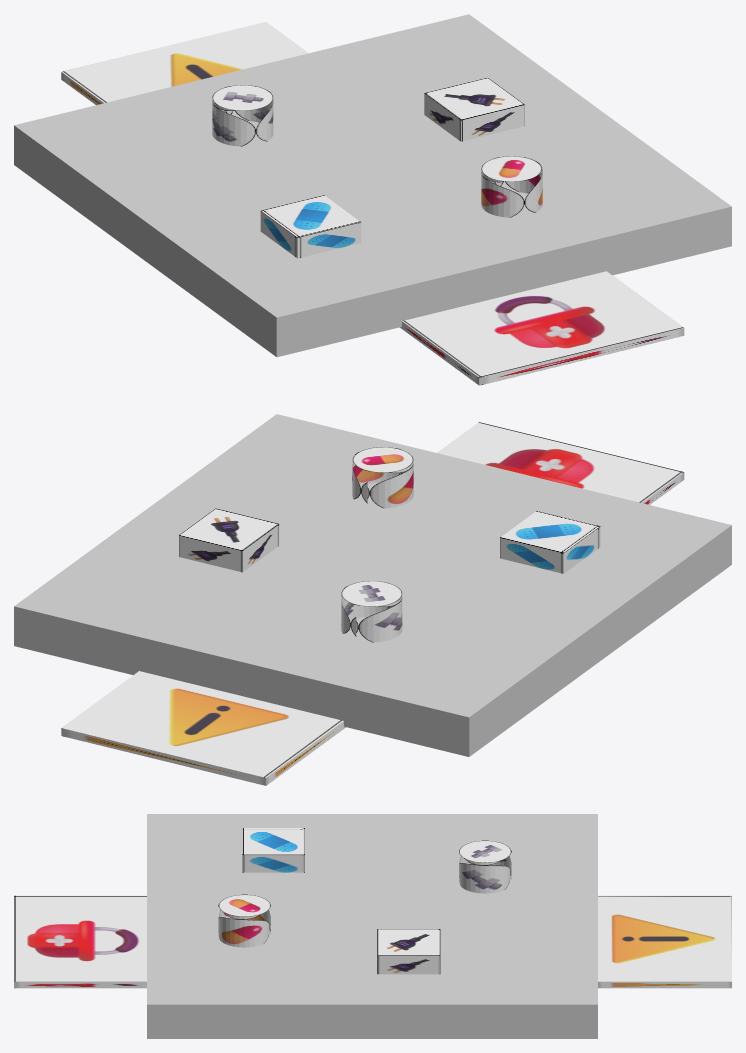
The model's file is octagon_table.dae.
3 views of the same model, one above another, from view 1: azimuth 30°, elevation 25°; view 2: azimuth 150°, elevation 25°; view 3: azimuth 270°, elevation 25° (orthographic). The views are drawn at different scales.
Visible parts, largest first — view 1: Cube, Cube.002, Cube.001, Cube.003, Cube.004, Cylinder, Cylinder.001; view 2: Cube, Cube.001, Cube.002, Cube.003, Cube.004, Cylinder, Cylinder.001; view 3: Cube, Cube.001, Cube.002, Cube.003, Cube.004, Cylinder, Cylinder.001.
Boxes of the visible parts, x1,y1,x2,y2 form: Cube: [14, 14, 731, 357]; Cube.002: [400, 271, 684, 385]; Cube.001: [61, 22, 308, 105]; Cube.003: [424, 78, 524, 141]; Cube.004: [260, 195, 361, 258]; Cylinder: [212, 85, 273, 146]; Cylinder.001: [481, 156, 542, 217]; Cube: [14, 414, 731, 756]; Cube.001: [61, 671, 345, 785]; Cube.002: [437, 422, 684, 504]; Cube.003: [179, 508, 279, 572]; Cube.004: [500, 510, 600, 573]; Cylinder: [341, 581, 402, 642]; Cylinder.001: [352, 447, 413, 508]; Cube: [147, 814, 597, 1038]; Cube.001: [598, 895, 731, 988]; Cube.002: [14, 895, 146, 988]; Cube.003: [377, 929, 440, 974]; Cube.004: [242, 828, 304, 872]; Cylinder: [459, 840, 511, 893]; Cylinder.001: [218, 894, 270, 947].
Bounding box in the file's own units: 1.2 × 1.91 × 0.1957.
7 materials, 6 textured.
